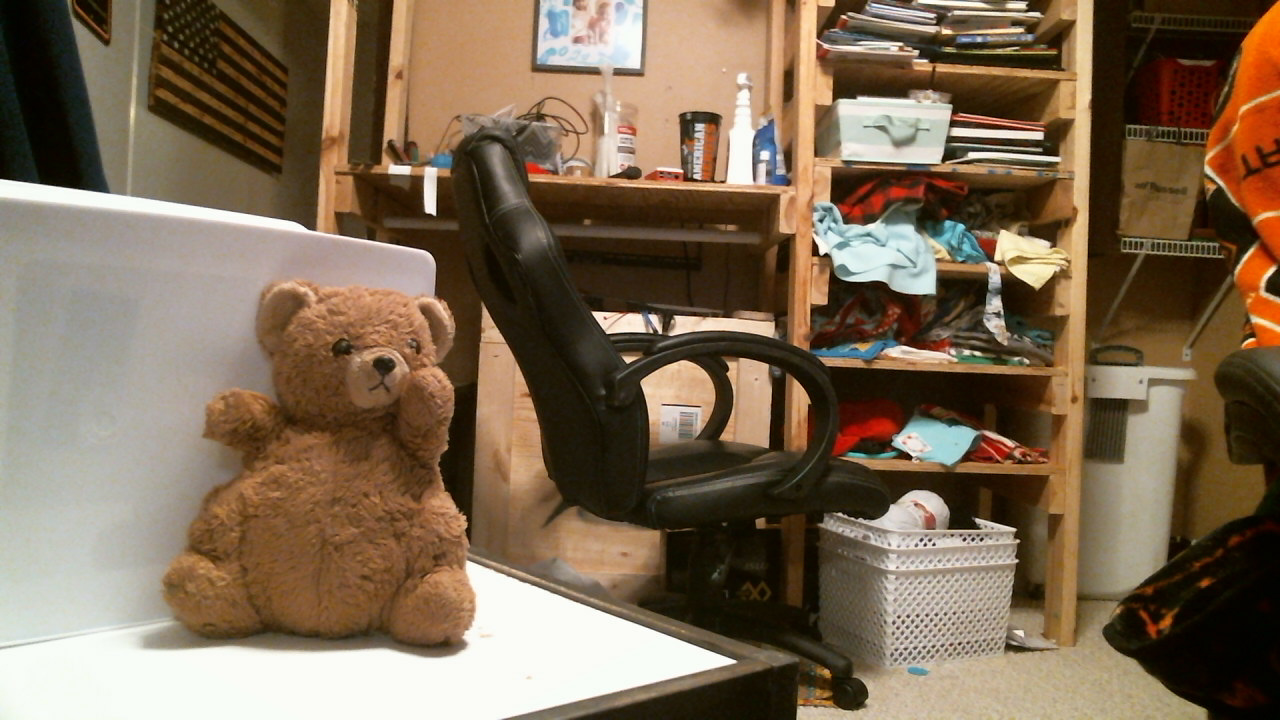Little_Mister_Bear: (338, 337, 428, 411)
